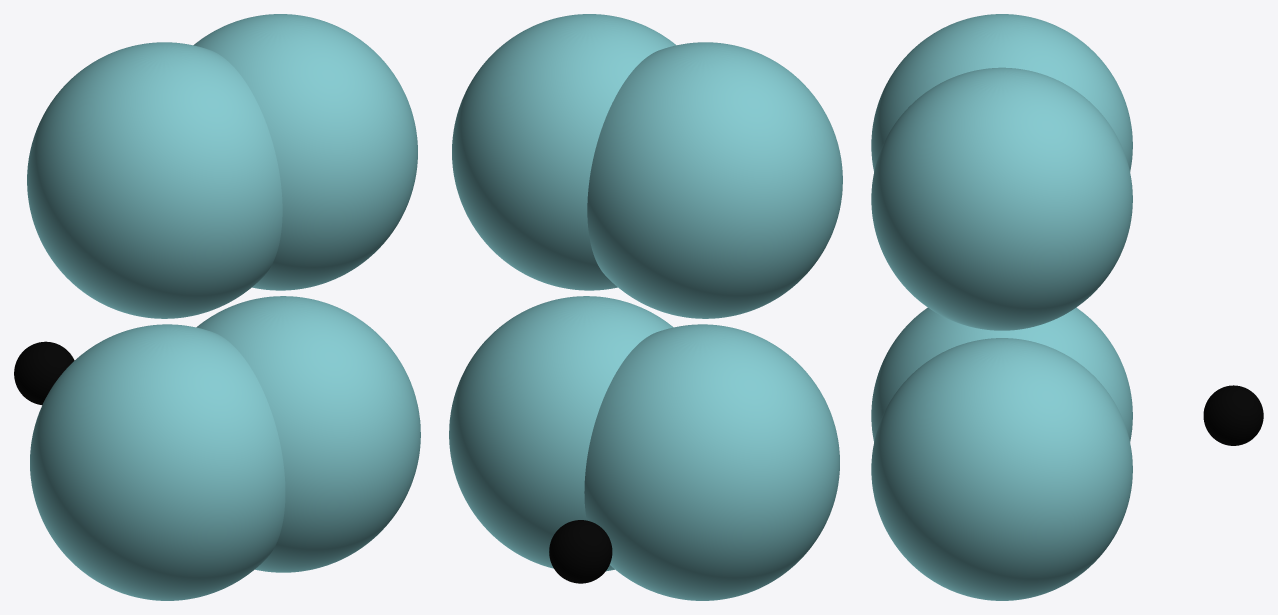
Rendered from hydrogen.glb.
3 views of the same model, side by side, from view 1: azimuth 30°, elevation 25°; view 2: azimuth 150°, elevation 25°; view 3: azimuth 270°, elevation 25° (orthographic). The views are drawn at different scales.
Visible parts, largest first — view 1: node_id64, node_id5, node_id67, node_id43, node_id9; view 2: node_id64, node_id5, node_id67, node_id43, node_id9; view 3: node_id67, node_id43, node_id64, node_id5, node_id9.
Part boxes in pixels (<box>): node_id64: <box>27,42,282,318</box>; node_id5: <box>30,324,285,600</box>; node_id67: <box>193,14,417,290</box>; node_id43: <box>196,296,420,572</box>; node_id9: <box>14,341,74,404</box>; node_id64: <box>587,42,842,318</box>; node_id5: <box>584,324,839,600</box>; node_id67: <box>452,14,675,290</box>; node_id43: <box>449,296,673,571</box>; node_id9: <box>549,520,612,583</box>; node_id67: <box>871,67,1132,330</box>; node_id43: <box>871,338,1132,600</box>; node_id64: <box>871,14,1132,171</box>; node_id5: <box>871,307,1132,441</box>; node_id9: <box>1203,385,1263,445</box>.
Size of the model in its own units: 0.7592 by 1.09 by 0.7599.
Materials: 2 (2 with a texture image).
